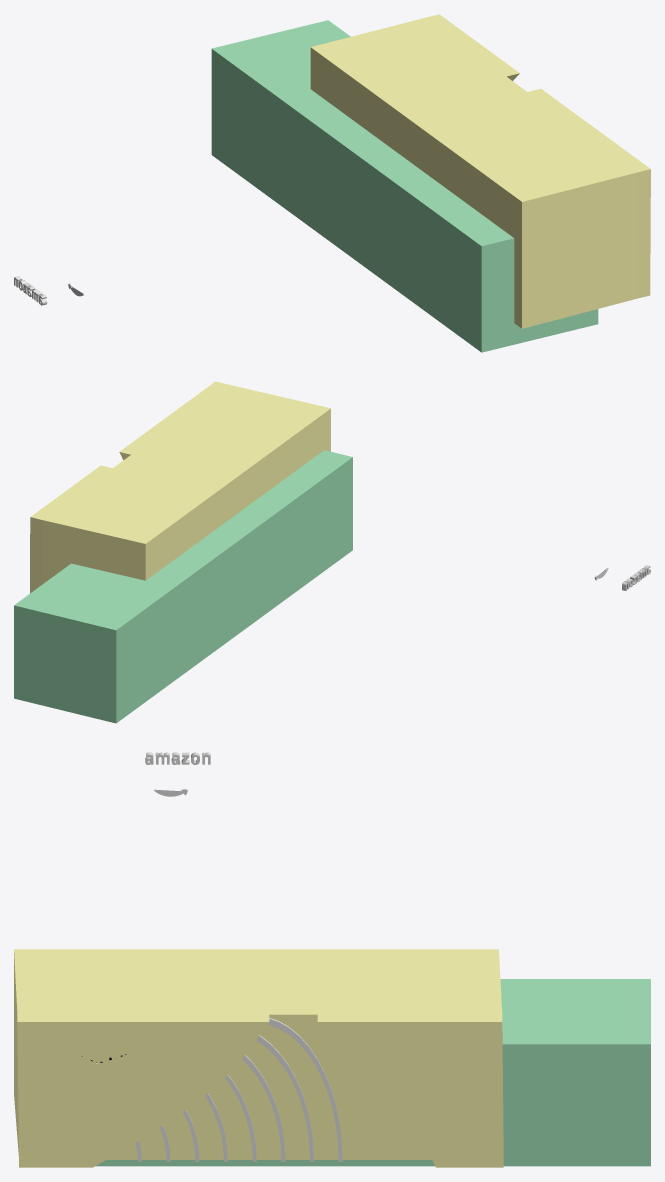
File: reception desk.fbx
3 views of the same model, one above another, from view 1: azimuth 30°, elevation 25°; view 2: azimuth 150°, elevation 25°; view 3: azimuth 270°, elevation 25° (orthographic). The views are drawn at different scales.
Parts seen in each view (by area): view 1: Vector.svg.001, Cube.001; view 2: Cube.001, Vector.svg.001; view 3: Vector.svg.001, Cube.001, Torus, Text.
Part boxes in pixels (left/top/right/bottom): Vector.svg.001: left=310, top=14, right=650, bottom=328; Cube.001: left=211, top=20, right=598, bottom=352; Cube.001: left=14, top=450, right=352, bottom=723; Vector.svg.001: left=30, top=381, right=330, bottom=593; Vector.svg.001: left=14, top=949, right=503, bottom=1167; Cube.001: left=95, top=979, right=650, bottom=1166; Torus: left=135, top=1018, right=342, bottom=1161; Text: left=145, top=752, right=210, bottom=764.
Bounding box in the file's own units: 947 × 243 × 825.
